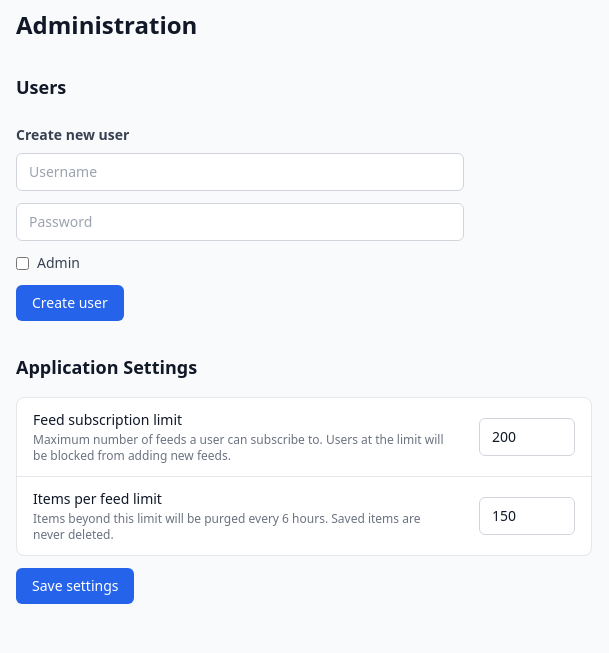
Test: Administration › shows error when username or password is missing
Click the button "Create user".
click(70, 303)  # box x1=16 y1=285 x2=124 y2=321
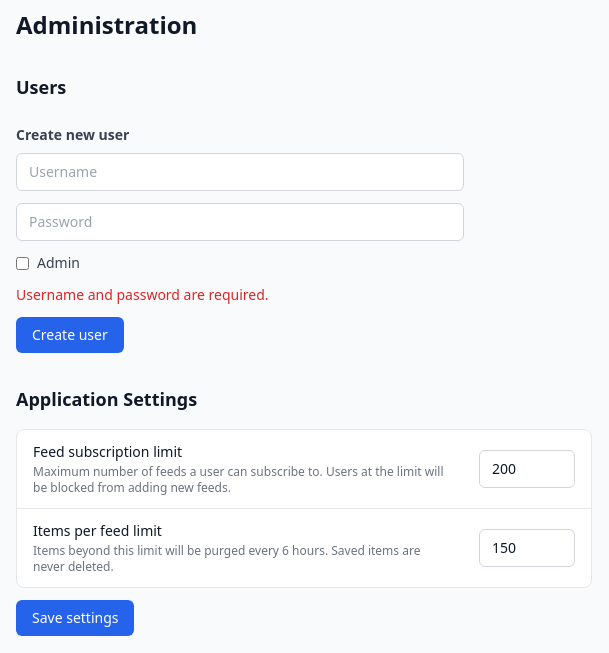
expect the text "Username and password are required." is shown: met, box x1=16 y1=285 x2=268 y2=304
